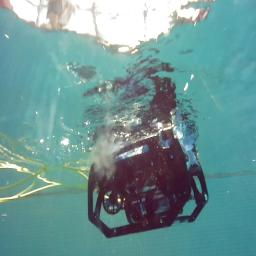Side: (86, 126, 210, 238)
